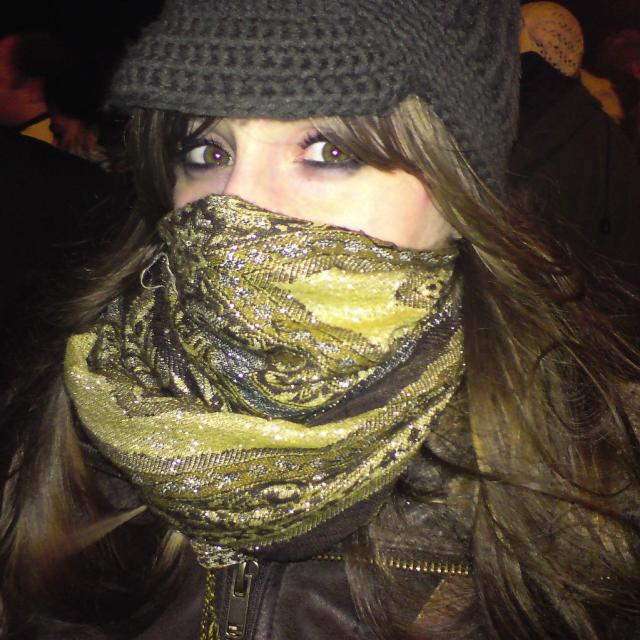hat: (105, 4, 514, 201)
